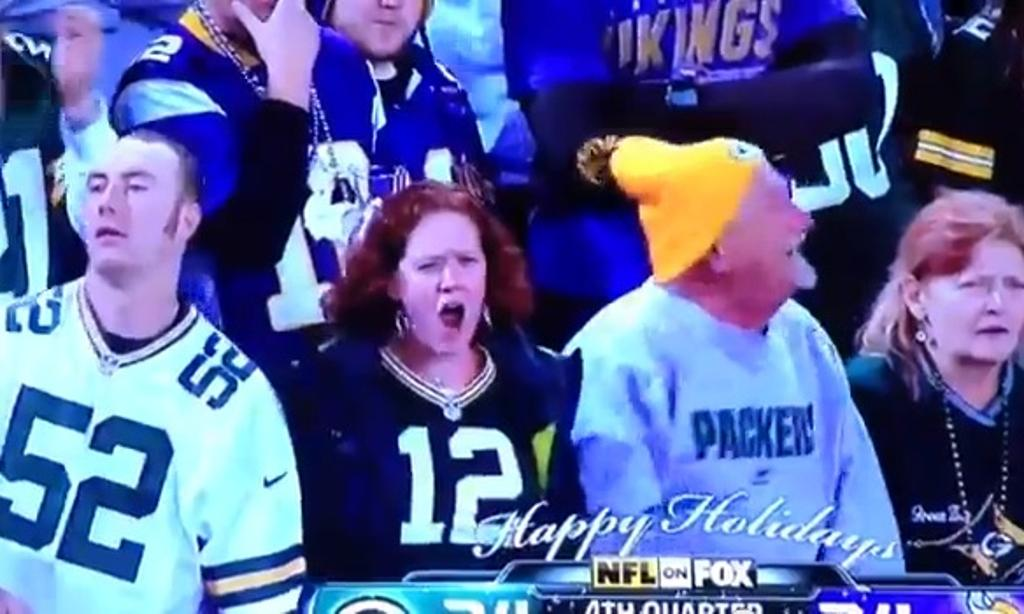face: (726, 162, 826, 294), (80, 136, 166, 262), (406, 218, 486, 350), (938, 240, 1020, 360)
